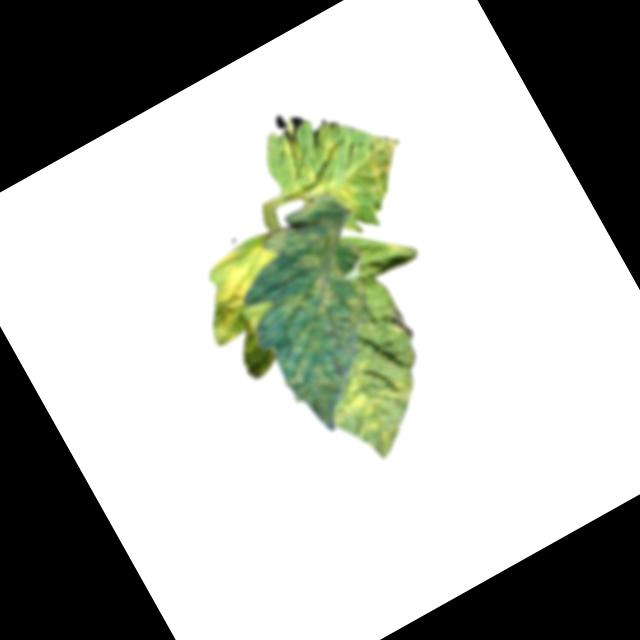Leaf_Mold: (222, 207, 398, 398), (264, 76, 424, 239), (313, 343, 439, 471), (179, 229, 306, 350)
